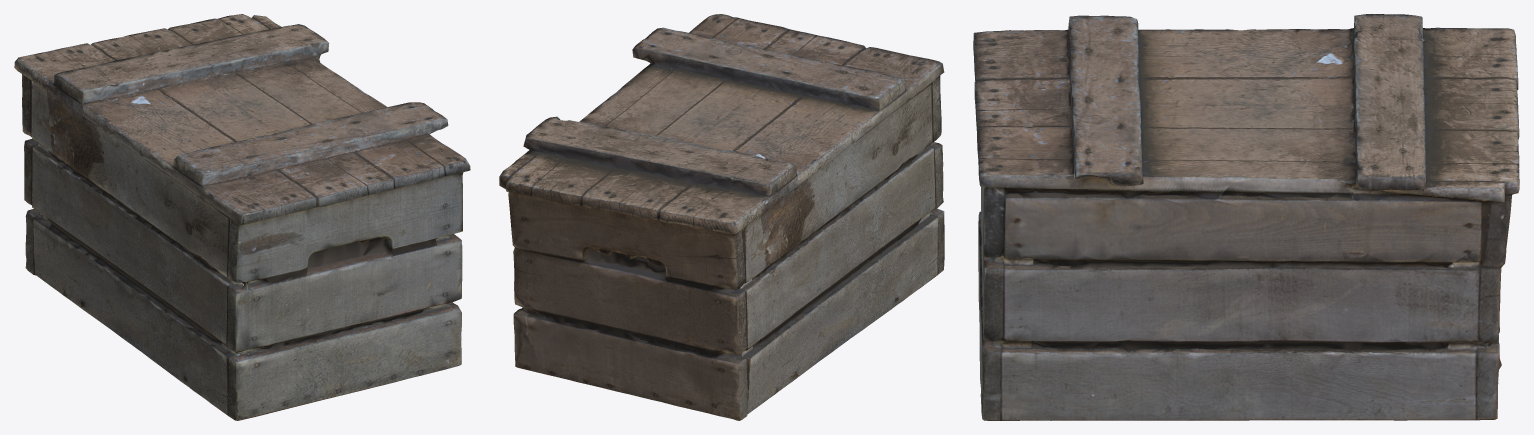
The model's file is MOD_WoodCrateE.fbx.
3 renders of one model, left to right at view 1: azimuth 30°, elevation 25°; view 2: azimuth 150°, elevation 25°; view 3: azimuth 270°, elevation 25°, orthographic. The views are drawn at different scales.
Parts seen in each view (by area): view 1: MOD_WoodCrateE; view 2: MOD_WoodCrateE; view 3: MOD_WoodCrateE.
Boxes of the visible parts, x1,y1,x2,y2 form: MOD_WoodCrateE: (14,14,470,420); MOD_WoodCrateE: (499,14,944,420); MOD_WoodCrateE: (973,14,1519,420).
Bounding box in the file's own units: 49.67 × 40.8 × 74.37.
